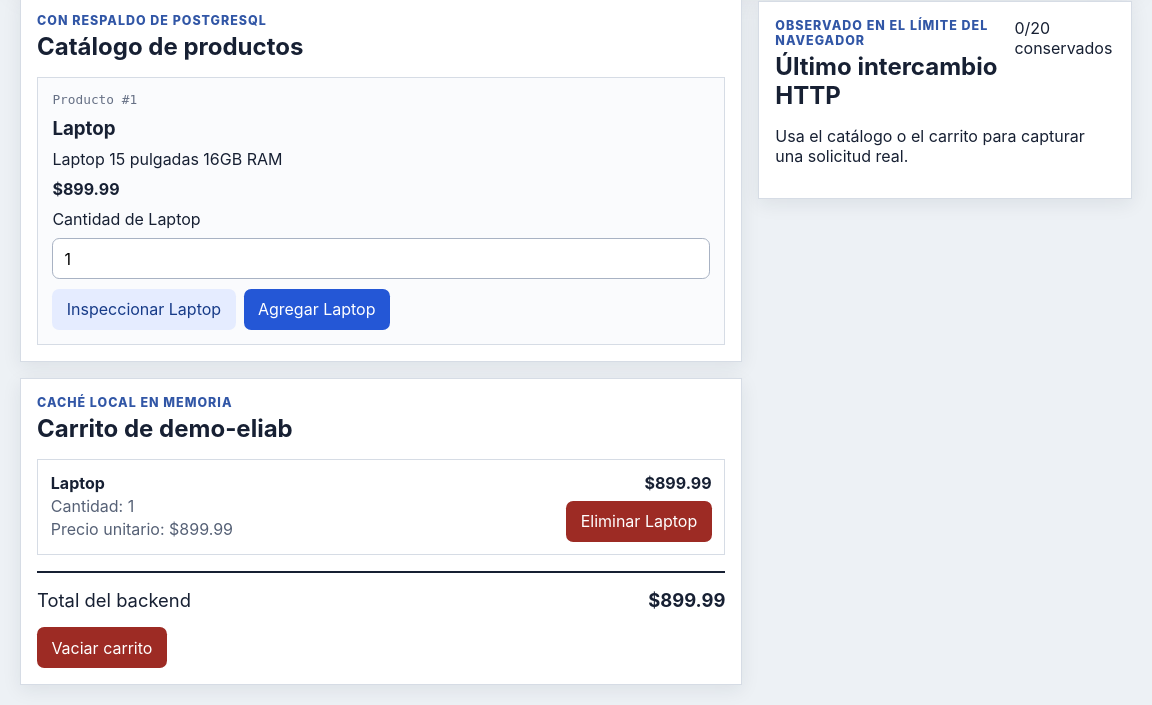
Test: CartDemo › replaces cart state with the clear response
(page scrolled)
Expected: the text "Cantidad: 1" is shown, left=51, top=496, right=134, bottom=516
Click the button "Vaciar carrito" at (102, 648), box left=37, top=628, right=167, bottom=668
(page scrolled)
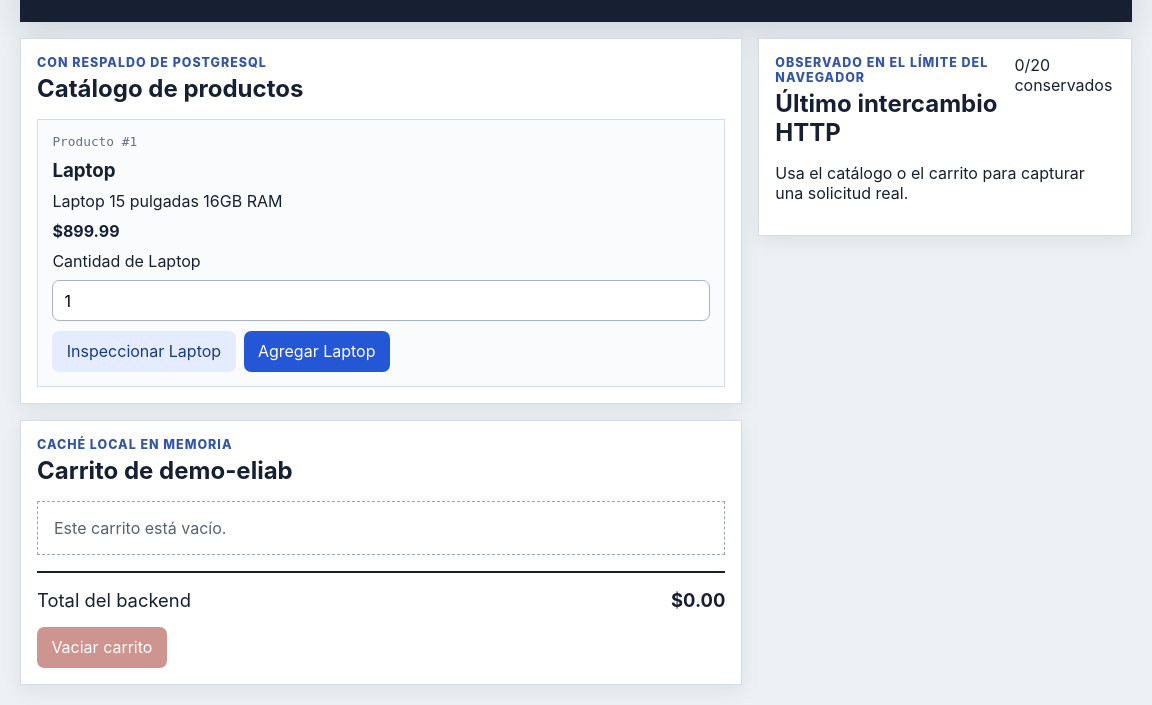
Result: the text "Este carrito está vacío." is shown at left=37, top=501, right=725, bottom=555
